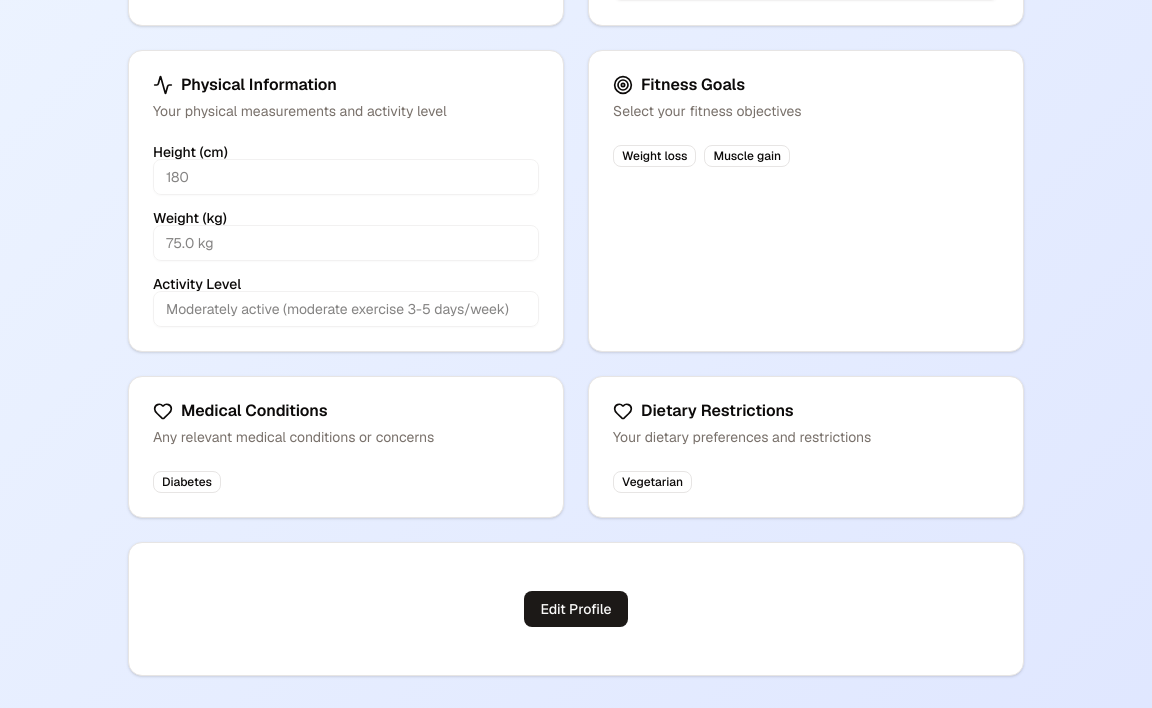
it: ProfilePage › Edit Mode › should enter edit mode when Edit Profile button is clicked
(page scrolled)
Click the button "Edit Profile".
click(576, 609)  # box [524, 591, 628, 627]
(page scrolled)
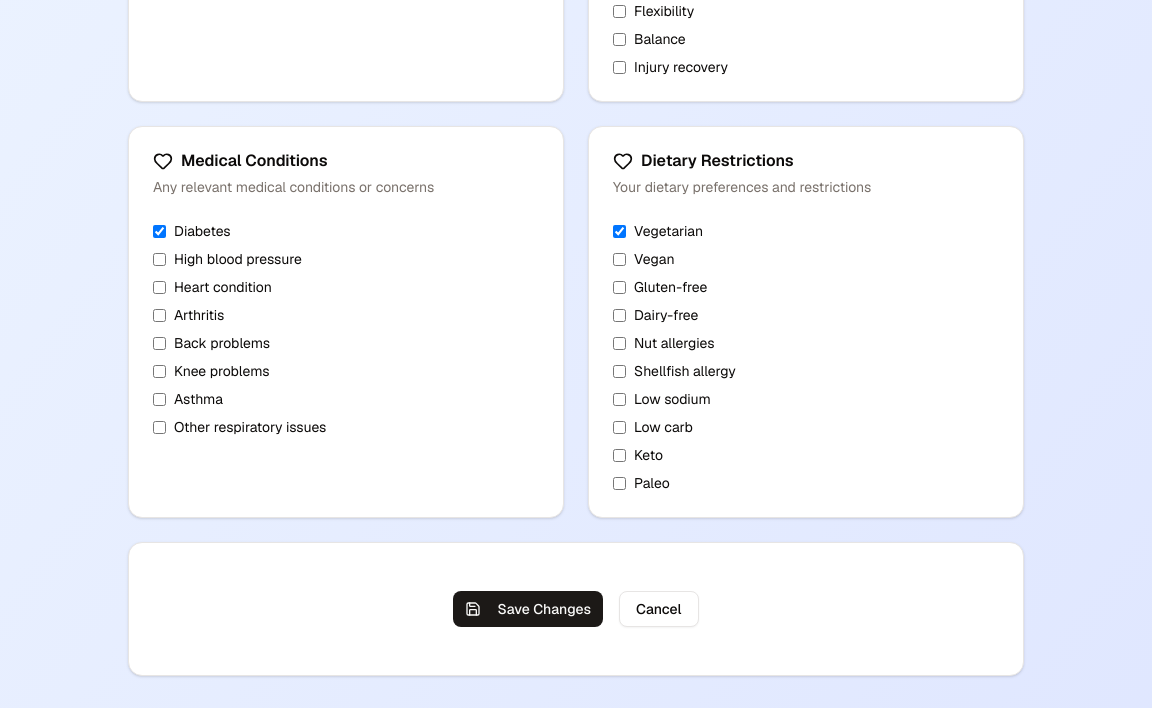
Expected: the button "Save Changes" is shown, [453, 591, 603, 627]
Expected: the button "Cancel" is shown, [619, 591, 699, 627]
